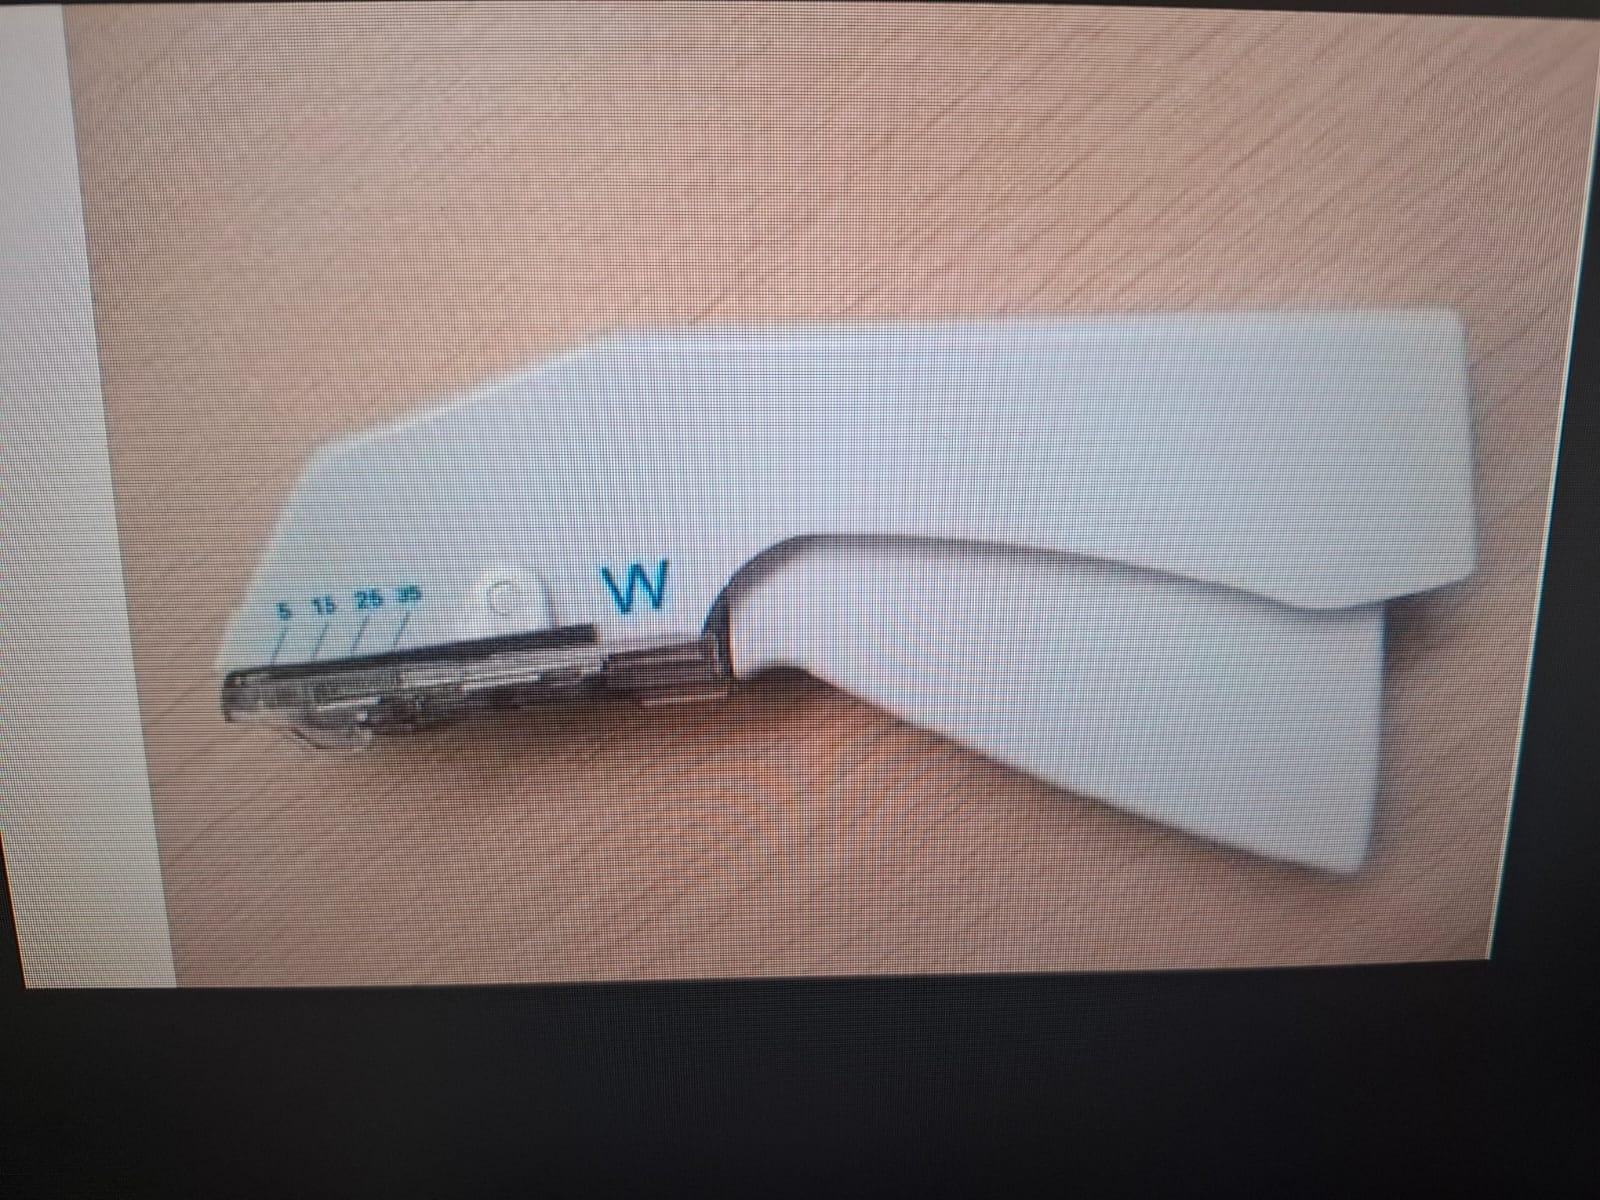Skin Stapler: (188, 282, 1488, 892)
